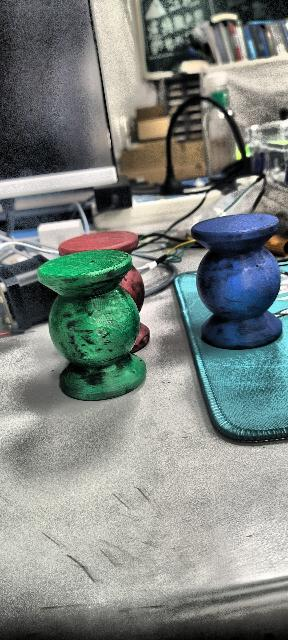blue: (190, 212, 282, 350)
green: (37, 248, 147, 402)
red: (57, 228, 155, 350)
